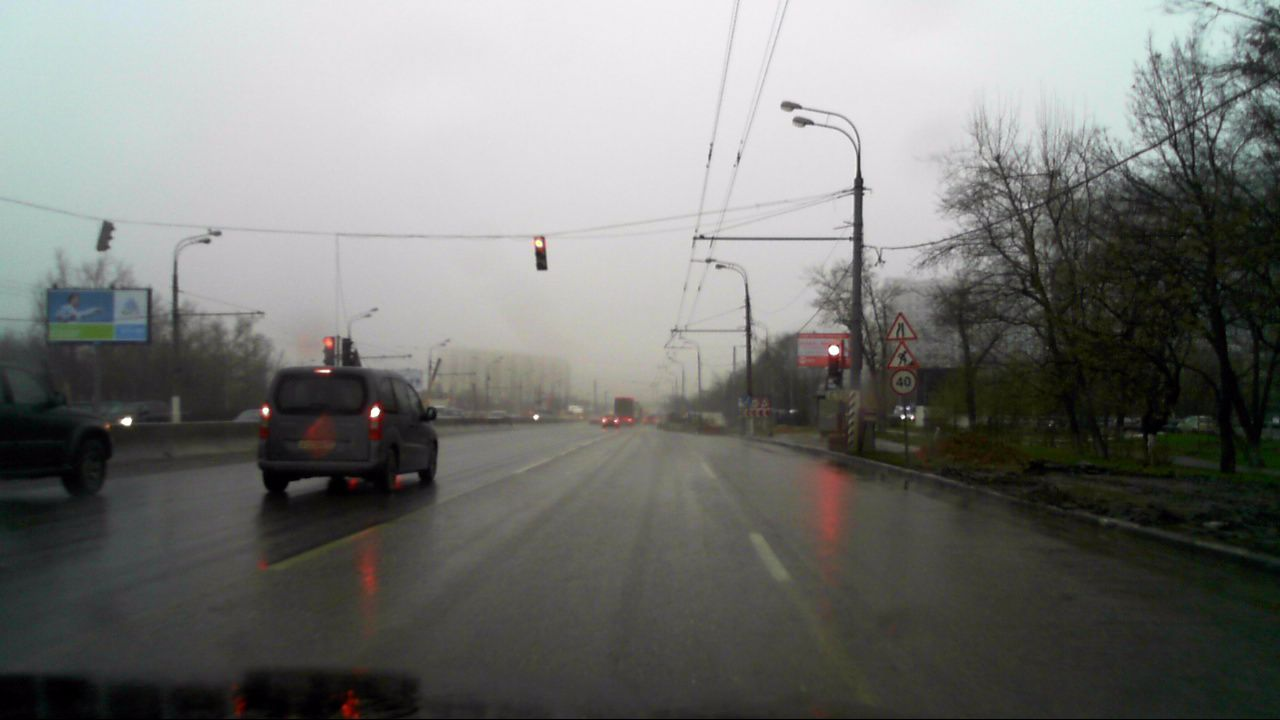speed_warning_40: (891, 371, 916, 394)
